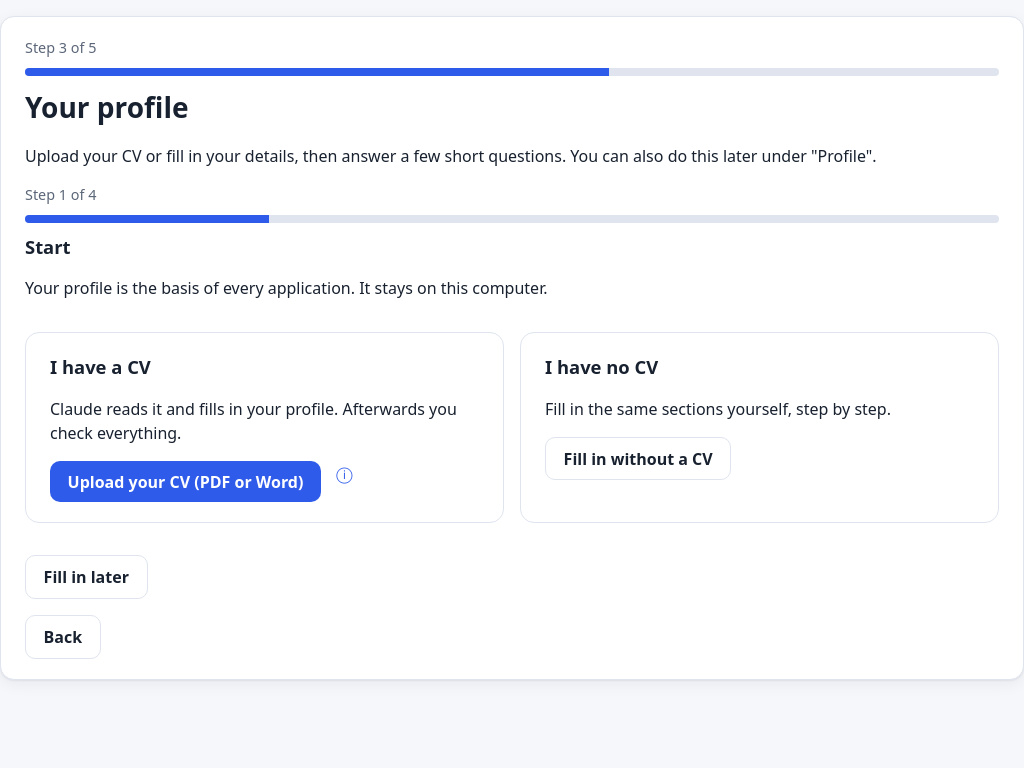
OnboardingWizard › shows the profile wizard on the profile step and can skip it
The image size is (1024, 768).
Check: the text "Step 3 of 5" is shown, box [25,38,96,57]
Check: the text "Step 1 of 4" is shown, box [25,185,96,204]
Click the button "Fill in later" at (86, 577), box [25,555,148,599]
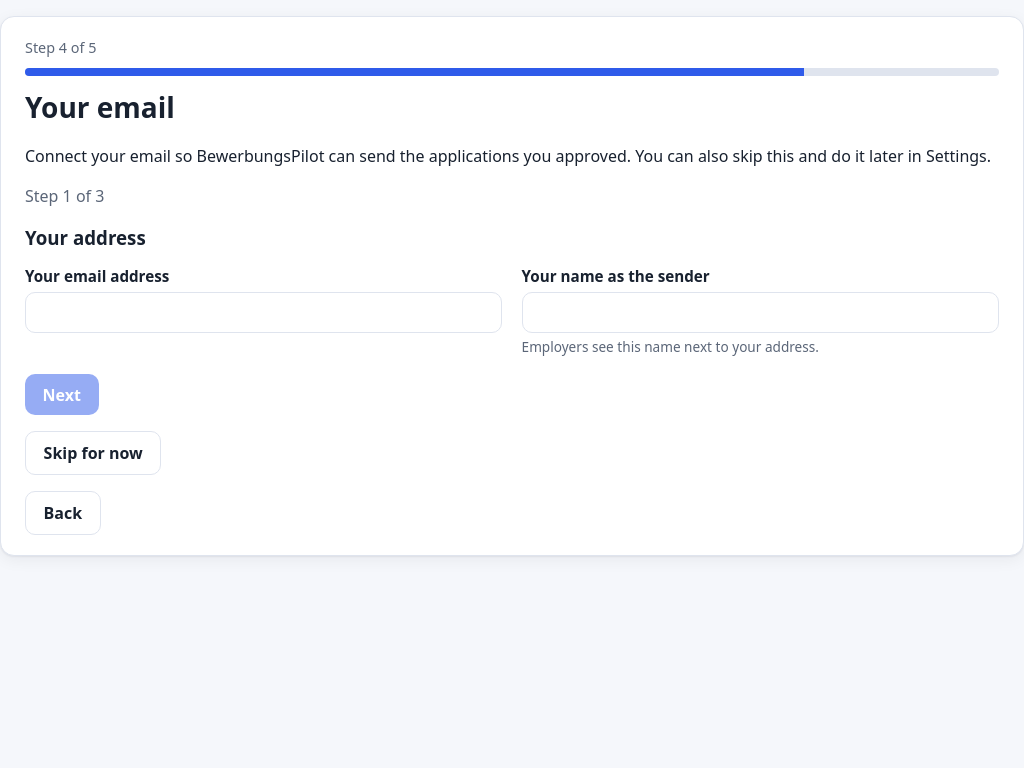
Check: the text "Step 4 of 5" is shown, box [25,38,96,57]
